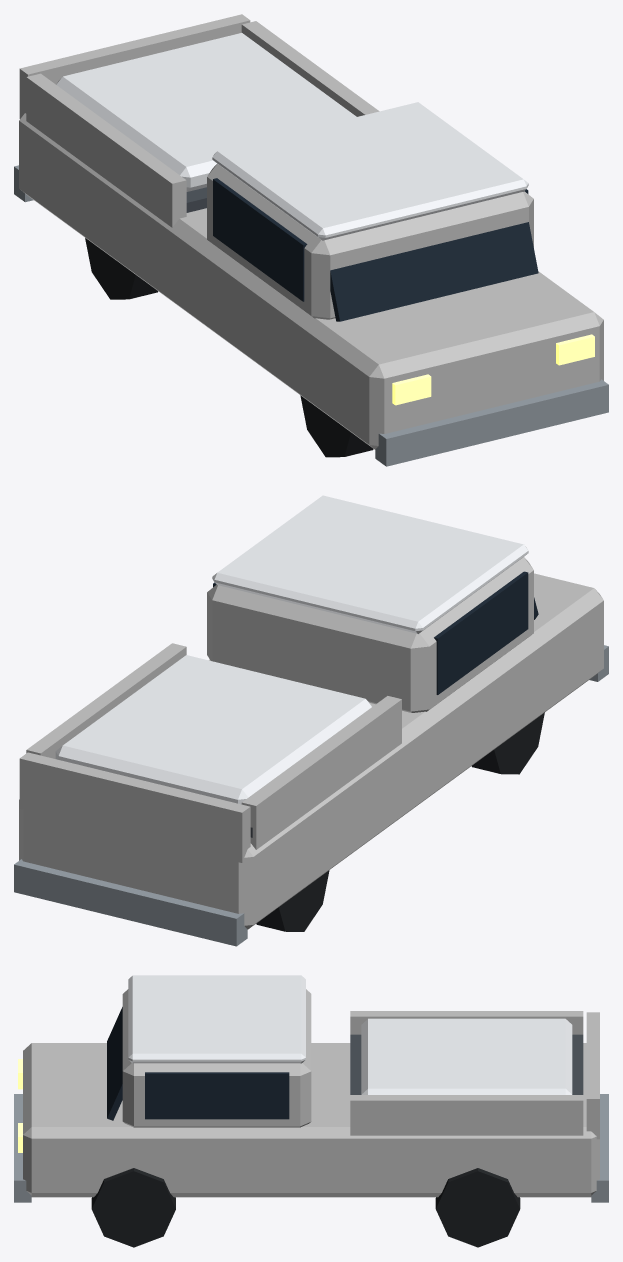
Rendered from pickup.glb.
3 renders of one model, top to bottom at view 1: azimuth 30°, elevation 25°; view 2: azimuth 150°, elevation 25°; view 3: azimuth 270°, elevation 25°, orthographic. The views are drawn at different scales.
Visible parts, largest first — view 1: pickup; view 2: pickup; view 3: pickup.
Boxes of the visible parts, x1,y1,x2,y2 form: pickup: [14, 14, 608, 466]; pickup: [14, 495, 608, 946]; pickup: [14, 975, 608, 1247].
Size of the model in its own units: 2.02 by 1.83 by 5.36.
